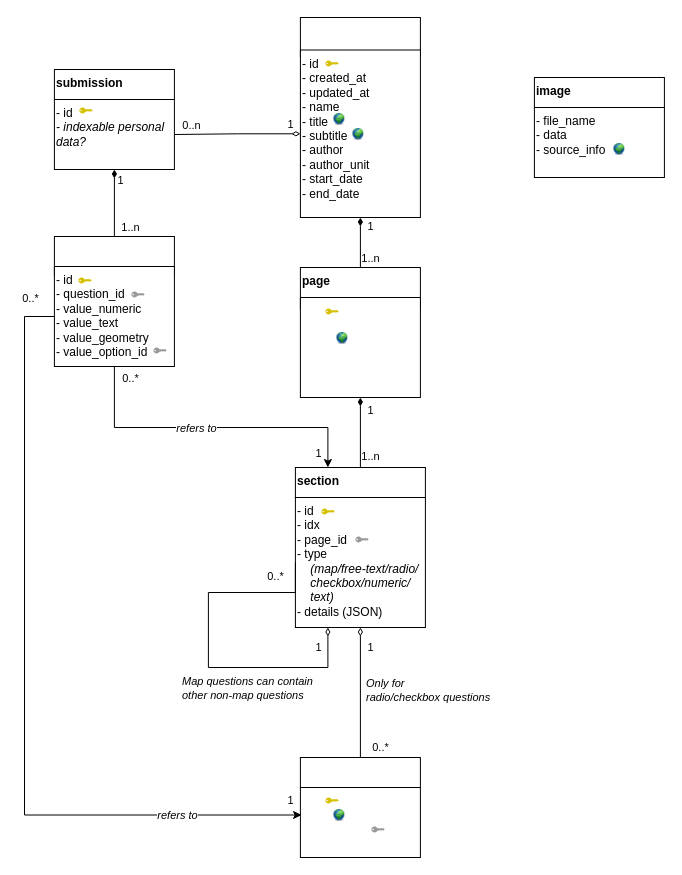
Some shapes in this 682 by 875 pixel diagram are drawn without their labels. The box of each missing label's shape, as (x1, y1, x2, y2) in pixels:
- id - idx - title: (299, 296, 420, 398)
- id - text - section_id: (299, 786, 420, 858)
answer_entry: (53, 236, 174, 276)
option: (299, 756, 420, 788)
survey: (299, 16, 420, 56)
